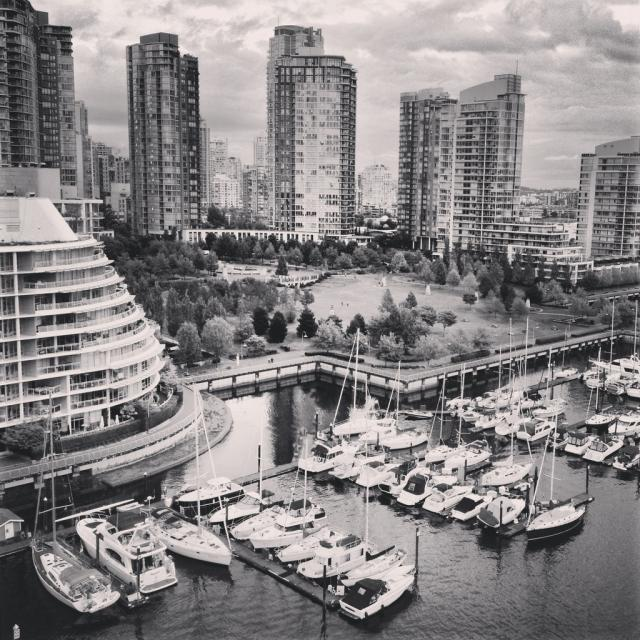Boat: (287, 330, 588, 529), (174, 449, 421, 625), (445, 317, 640, 471), (28, 386, 120, 613), (77, 512, 184, 602), (136, 500, 240, 570), (576, 299, 640, 400)
